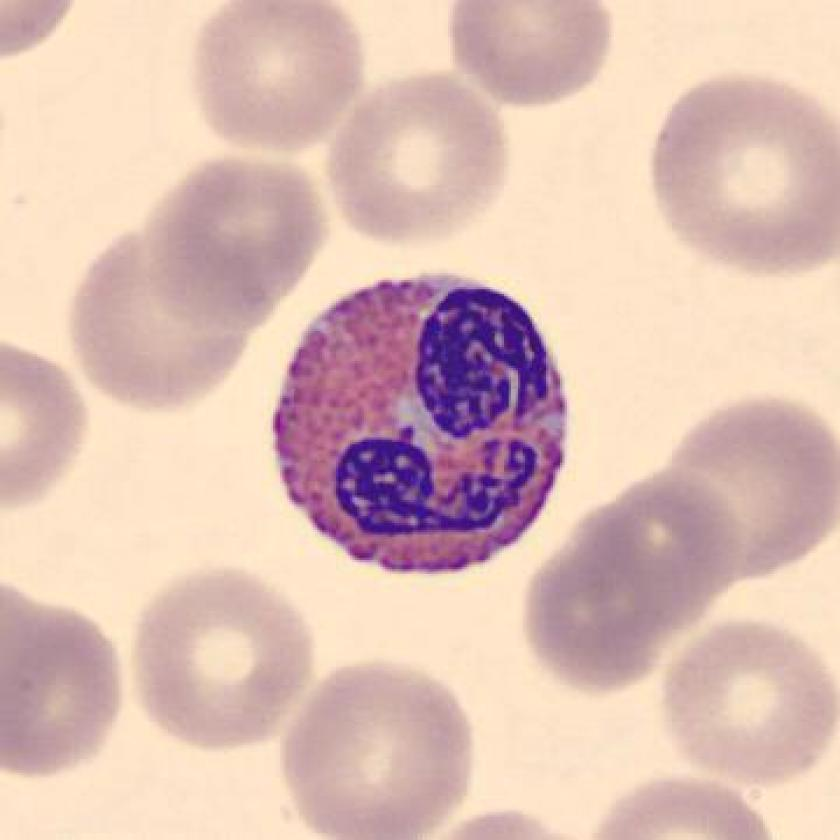eosinophil: (260, 260, 582, 591)
